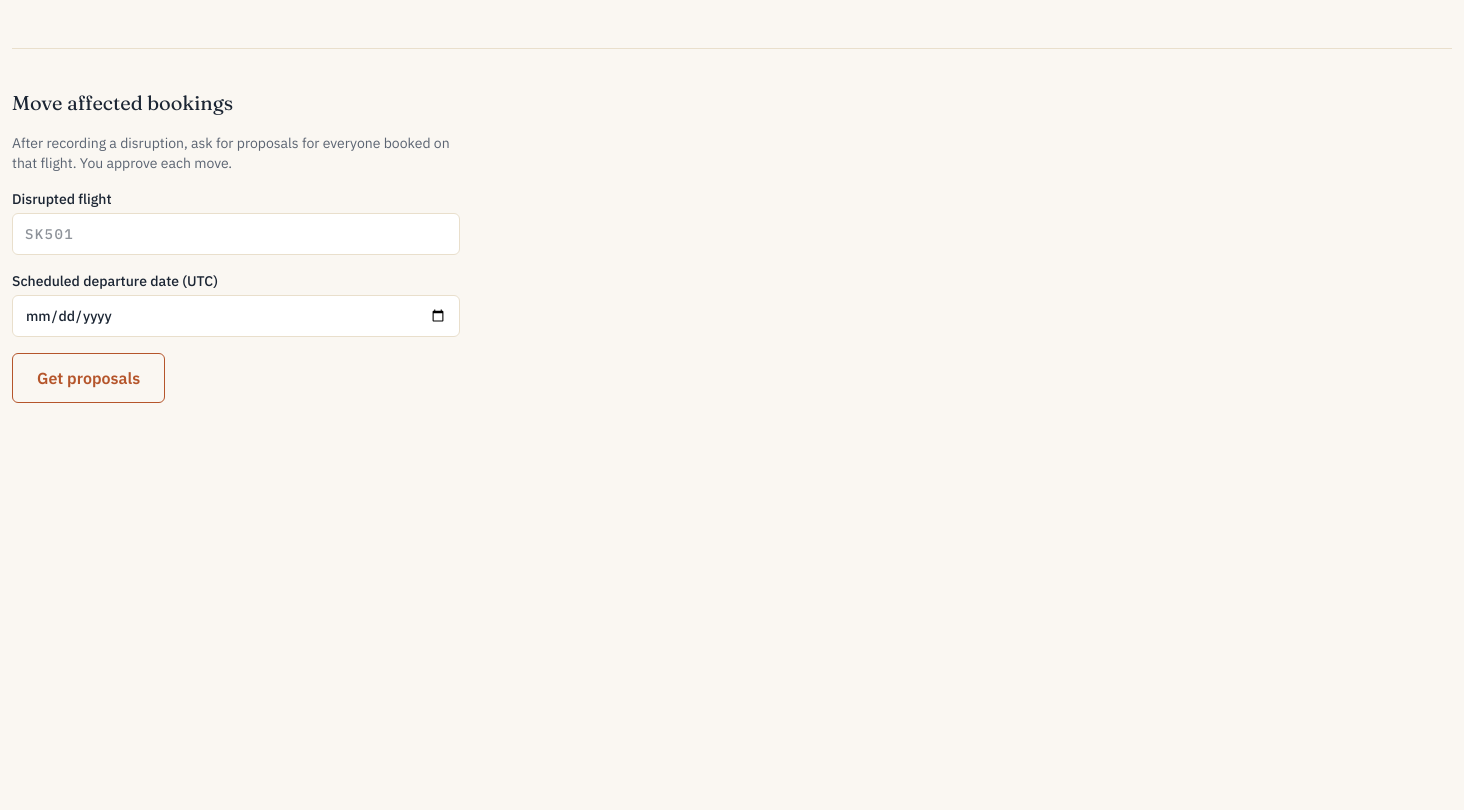
Test case: ProposalsPanel › shows why a move was refused, and leaves that booking selectable for another try
Submit the form named "Get proposals", box [12,89,460,403]
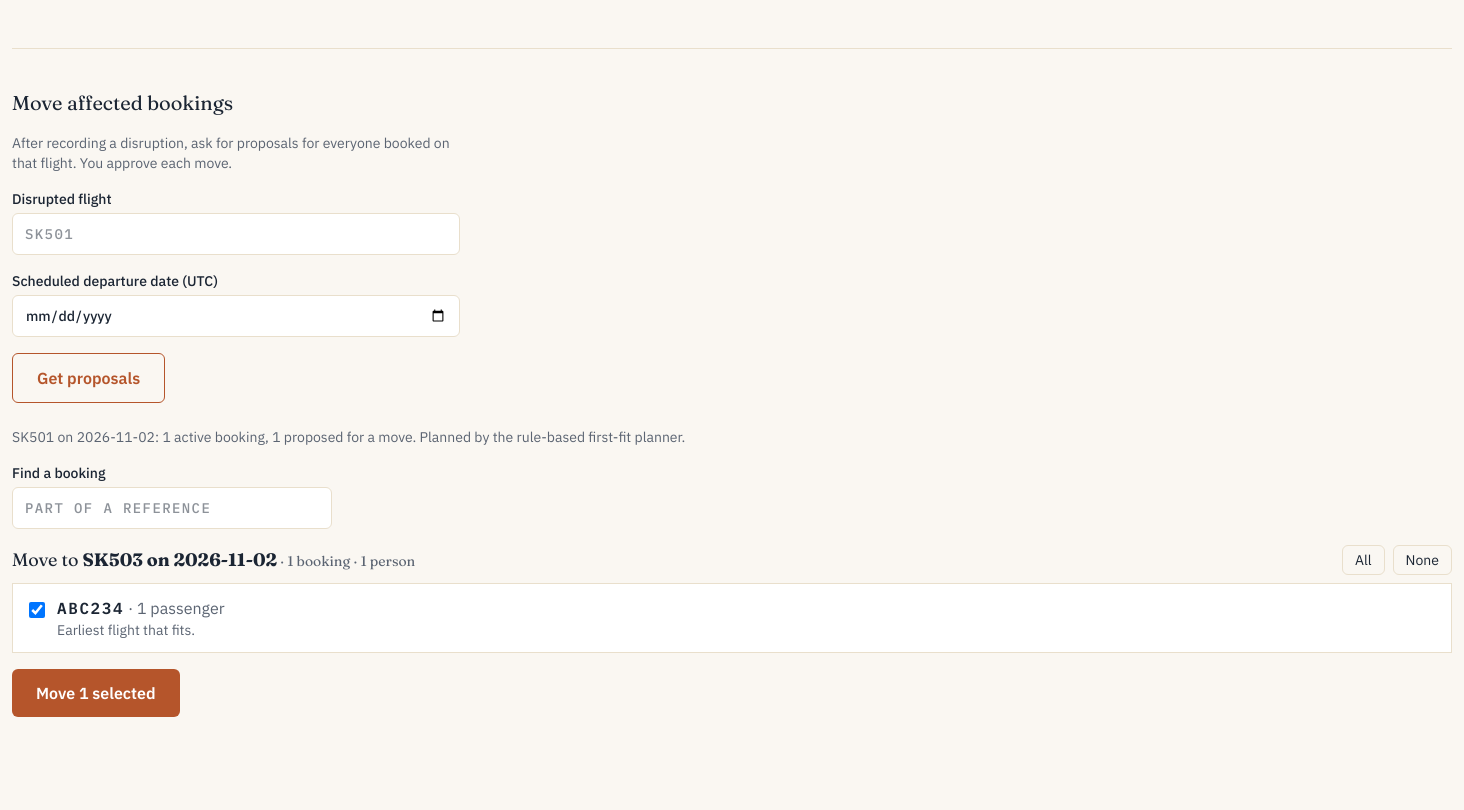
Now the text "ABC234" is shown, box [57,598,124,618]
Click the button "Move 1 selected". click: (96, 693)
box: [12,669,180,717]
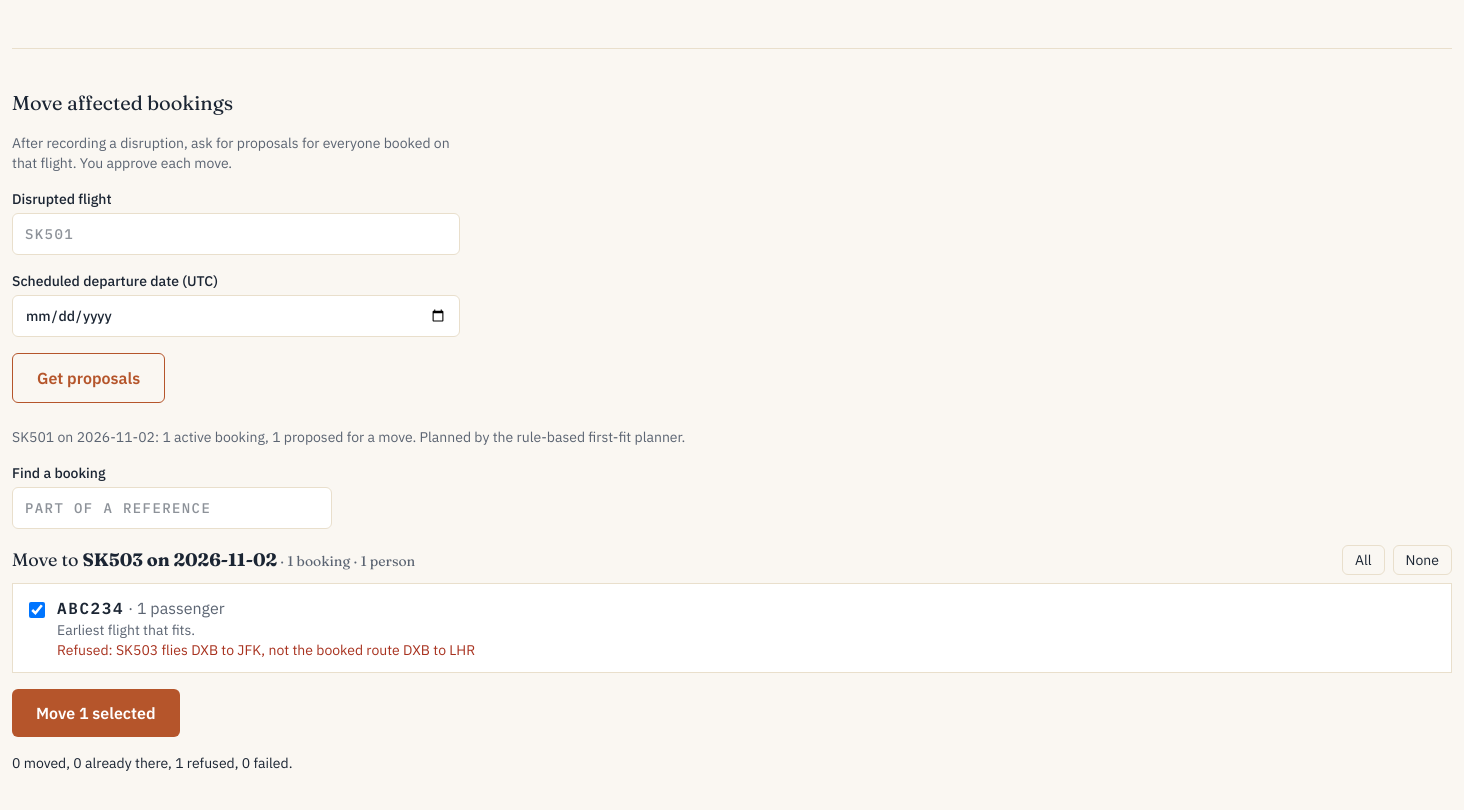
Now the text "not the booked route DXB to LHR" is shown, box [116,641,475,659]
